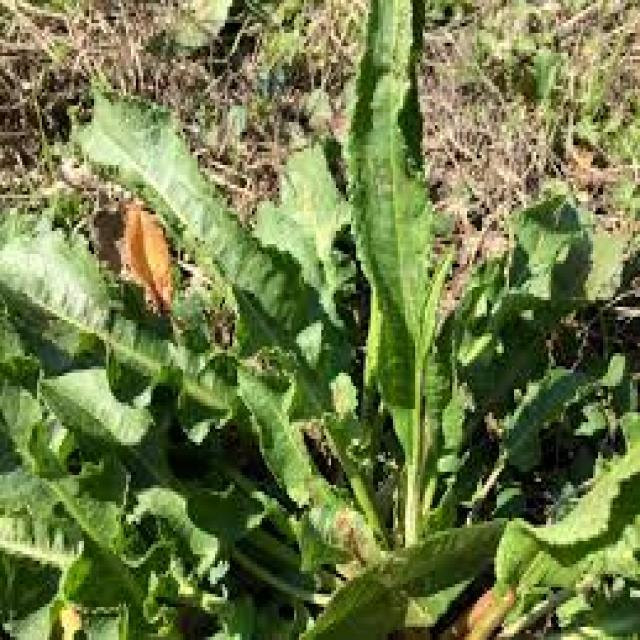organic waste: (42, 46, 613, 640)
